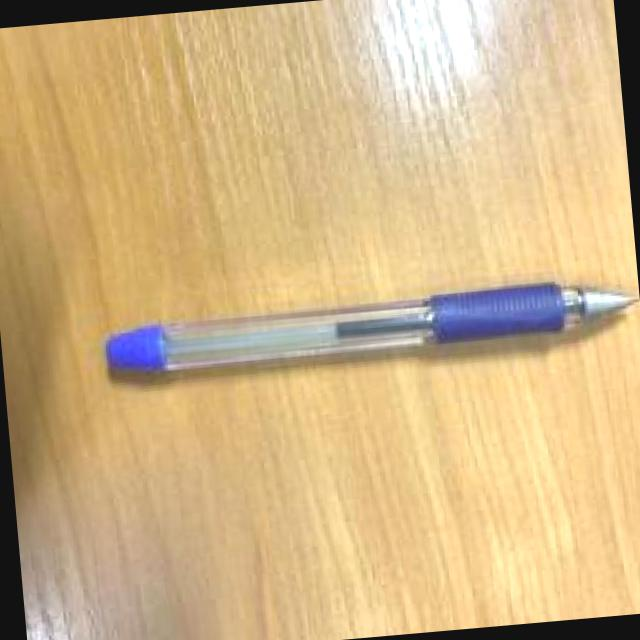Pen - Non Recyclable: (101, 271, 640, 383)
